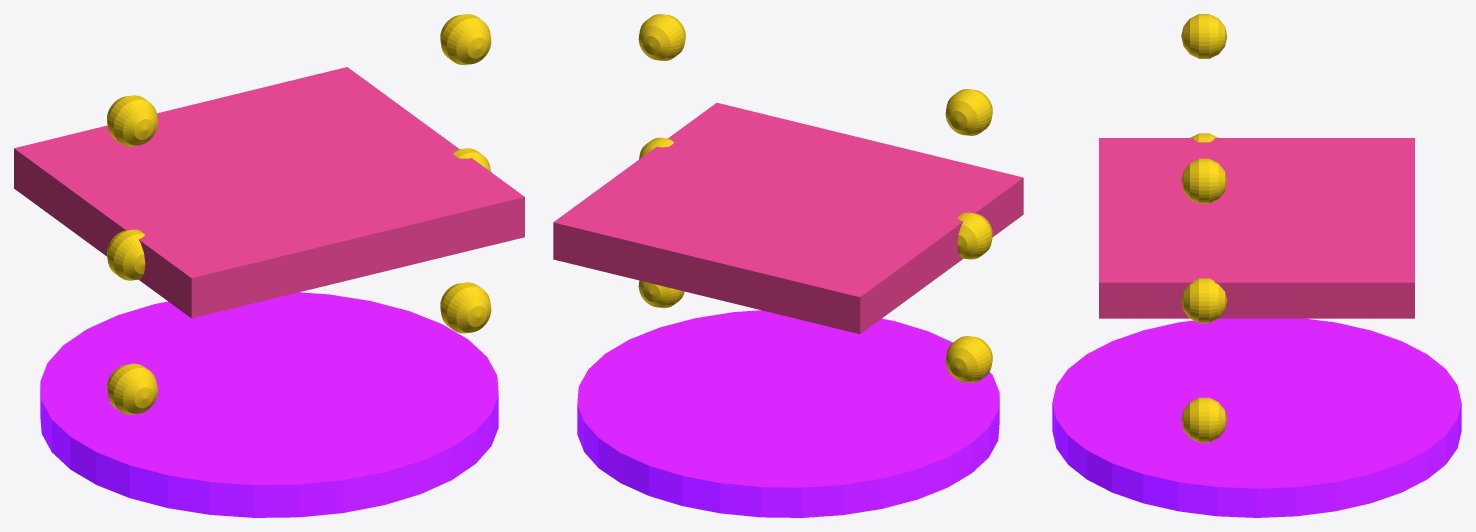
Rendered from modelling_vanity_mirror.dae.
3 renders of one model, left to right at view 1: azimuth 30°, elevation 25°; view 2: azimuth 150°, elevation 25°; view 3: azimuth 270°, elevation 25°, orthographic. The views are drawn at different scales.
Visible parts, largest first — view 1: 05_07_Popular_Modelling_Vanity_Mirror_ROOT_base, 05_07_Popular_Modelling_Vanity_Mirror_part_01, 05_07_Popular_Modelling_Vanity_Mirror_part_06, 05_07_Popular_Modelling_Vanity_Mirror_part_08, 05_07_Popular_Modelling_Vanity_Mirror_part_05, 05_07_Popular_Modelling_Vanity_Mirror_part_03, 05_07_Popular_Modelling_Vanity_Mirror_part_04; view 2: 05_07_Popular_Modelling_Vanity_Mirror_ROOT_base, 05_07_Popular_Modelling_Vanity_Mirror_part_01, 05_07_Popular_Modelling_Vanity_Mirror_part_03, 05_07_Popular_Modelling_Vanity_Mirror_part_05, 05_07_Popular_Modelling_Vanity_Mirror_part_08, 05_07_Popular_Modelling_Vanity_Mirror_part_04, 05_07_Popular_Modelling_Vanity_Mirror_part_06; view 3: 05_07_Popular_Modelling_Vanity_Mirror_ROOT_base, 05_07_Popular_Modelling_Vanity_Mirror_part_01, 05_07_Popular_Modelling_Vanity_Mirror_part_06, 05_07_Popular_Modelling_Vanity_Mirror_part_08, 05_07_Popular_Modelling_Vanity_Mirror_part_05, 05_07_Popular_Modelling_Vanity_Mirror_part_07.
Part boxes in pixels (left/top/right/bottom): 05_07_Popular_Modelling_Vanity_Mirror_ROOT_base: left=40, top=292, right=498, bottom=517; 05_07_Popular_Modelling_Vanity_Mirror_part_01: left=14, top=67, right=524, bottom=318; 05_07_Popular_Modelling_Vanity_Mirror_part_06: left=440, top=282, right=491, bottom=333; 05_07_Popular_Modelling_Vanity_Mirror_part_08: left=440, top=14, right=491, bottom=65; 05_07_Popular_Modelling_Vanity_Mirror_part_05: left=107, top=95, right=157, bottom=146; 05_07_Popular_Modelling_Vanity_Mirror_part_03: left=107, top=363, right=157, bottom=414; 05_07_Popular_Modelling_Vanity_Mirror_part_04: left=107, top=229, right=145, bottom=280; 05_07_Popular_Modelling_Vanity_Mirror_ROOT_base: left=577, top=310, right=999, bottom=517; 05_07_Popular_Modelling_Vanity_Mirror_part_01: left=553, top=103, right=1023, bottom=334; 05_07_Popular_Modelling_Vanity_Mirror_part_03: left=945, top=336, right=992, bottom=382; 05_07_Popular_Modelling_Vanity_Mirror_part_05: left=945, top=89, right=992, bottom=135; 05_07_Popular_Modelling_Vanity_Mirror_part_08: left=638, top=14, right=685, bottom=60; 05_07_Popular_Modelling_Vanity_Mirror_part_04: left=957, top=212, right=992, bottom=259; 05_07_Popular_Modelling_Vanity_Mirror_part_06: left=638, top=280, right=684, bottom=308; 05_07_Popular_Modelling_Vanity_Mirror_ROOT_base: left=1052, top=318, right=1461, bottom=517; 05_07_Popular_Modelling_Vanity_Mirror_part_01: left=1099, top=138, right=1414, bottom=318; 05_07_Popular_Modelling_Vanity_Mirror_part_06: left=1181, top=397, right=1227, bottom=442; 05_07_Popular_Modelling_Vanity_Mirror_part_08: left=1181, top=158, right=1227, bottom=203; 05_07_Popular_Modelling_Vanity_Mirror_part_05: left=1181, top=14, right=1227, bottom=58; 05_07_Popular_Modelling_Vanity_Mirror_part_07: left=1181, top=278, right=1227, bottom=323.
Size of the model in its own units: 0.76 by 0.7031 by 0.76.
